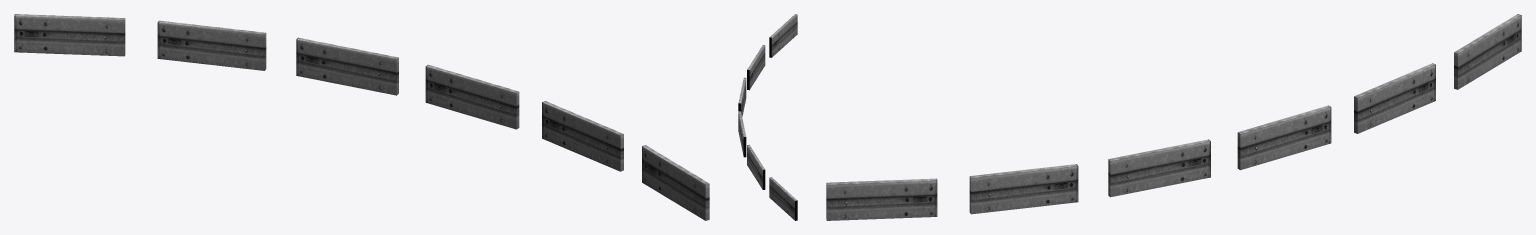
File: 60road_guard.FBX
3 views of the same model, side by side, from view 1: azimuth 30°, elevation 25°; view 2: azimuth 150°, elevation 25°; view 3: azimuth 270°, elevation 25° (orthographic). The views are drawn at different scales.
Parts seen in each view (by area): view 1: Object002; view 2: Object002; view 3: Object002.
Boxes of the visible parts, left/top/right/bottom form: Object002: left=14, top=14, right=709, bottom=220; Object002: left=738, top=14, right=797, bottom=220; Object002: left=826, top=14, right=1521, bottom=220.
Bounding box in the file's own units: 969 × 96.2 × 1668.
